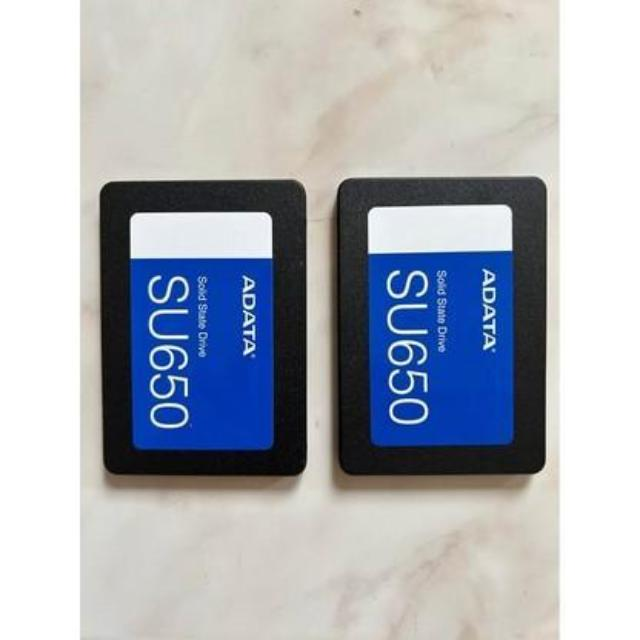DISK: (95, 173, 312, 487), (332, 175, 552, 482)
